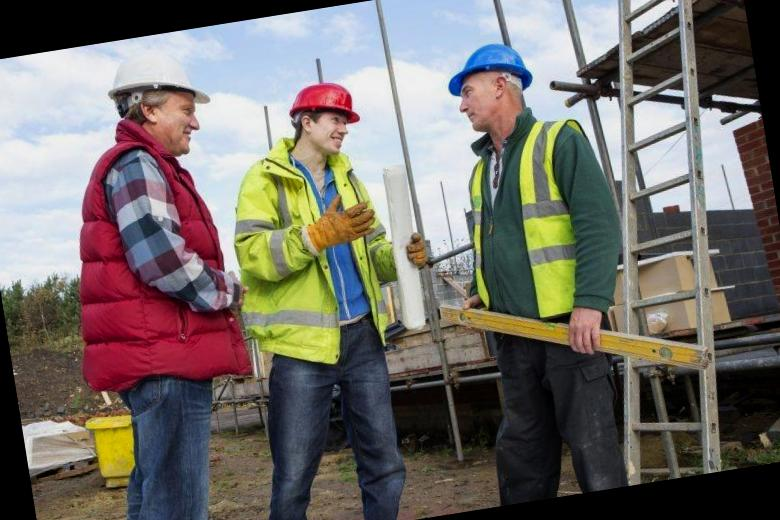helmet: (93, 52, 214, 128), (440, 35, 540, 105), (285, 79, 369, 138)
no_vest: (62, 148, 252, 397)
person: (406, 28, 666, 509), (36, 45, 284, 520), (206, 75, 439, 520)
